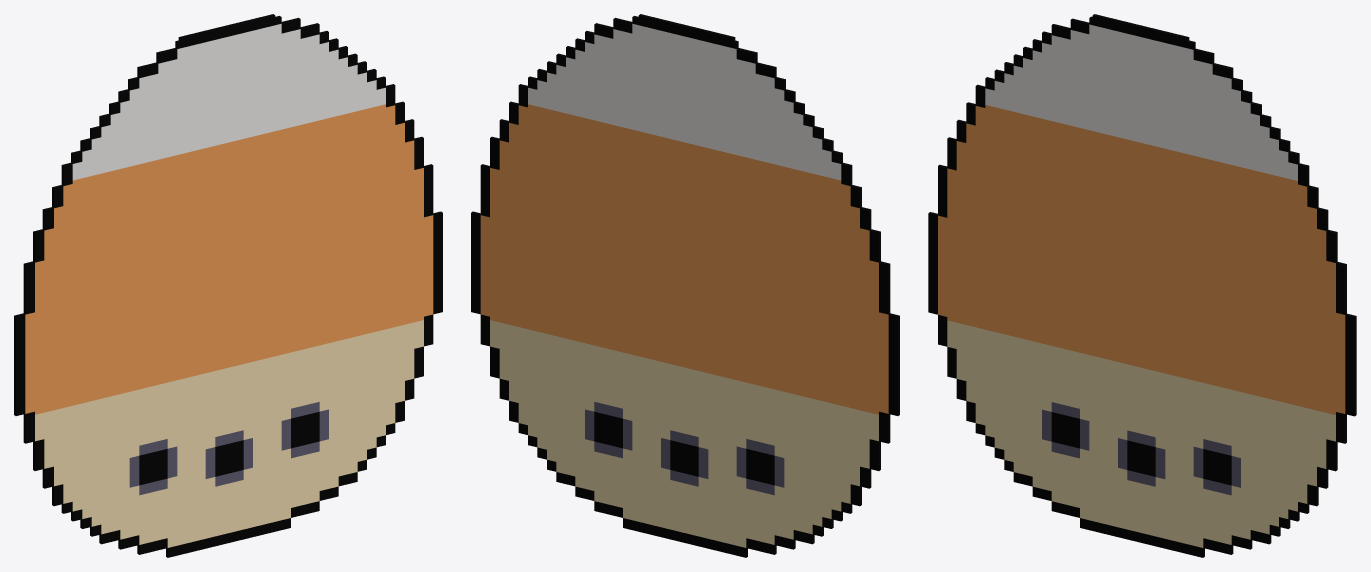
Rendered from bedroom-desk-view-television-9-tamagotchi.obj.
3 views of the same model, side by side, from view 1: azimuth 30°, elevation 25°; view 2: azimuth 150°, elevation 25°; view 3: azimuth 330°, elevation 25° (orthographic).
Visible parts, largest first — view 1: tamagotchi; view 2: tamagotchi; view 3: tamagotchi.
Boxes of the visible parts, x1,y1,x2,y2 form: tamagotchi: [14, 14, 442, 557]; tamagotchi: [471, 14, 899, 557]; tamagotchi: [928, 14, 1356, 557].
Bounding box in the file's own units: 13.5 × 15.6 × 0.1.
Materials: 1 (1 with a texture image).
